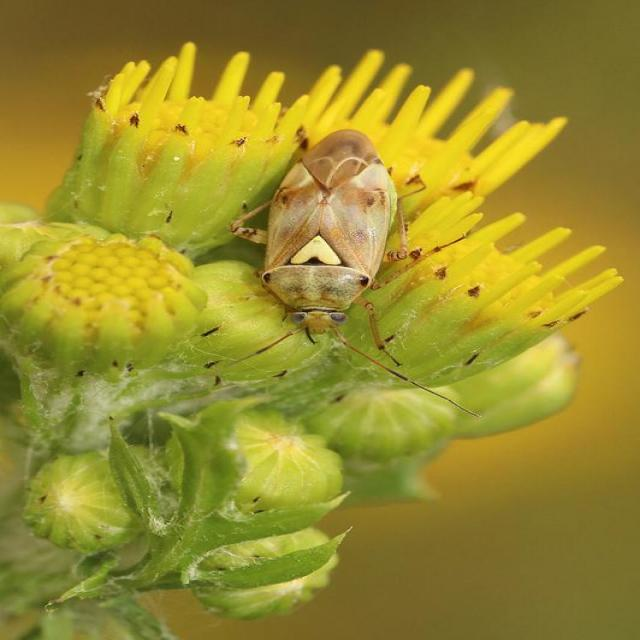Miridae-Adult-: (190, 107, 467, 410)
